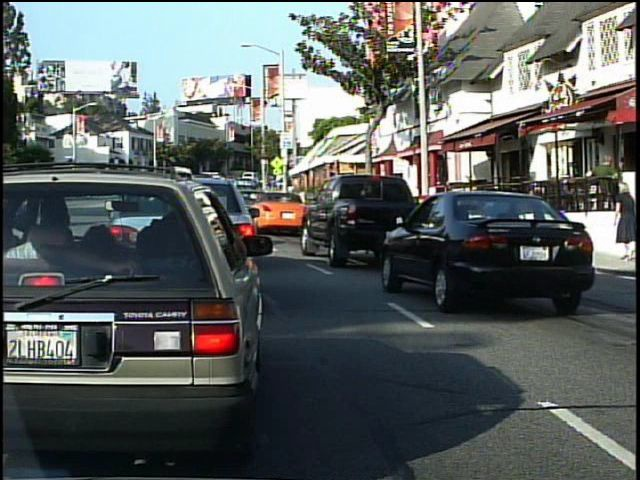person: (588, 149, 622, 233), (611, 180, 637, 264)
